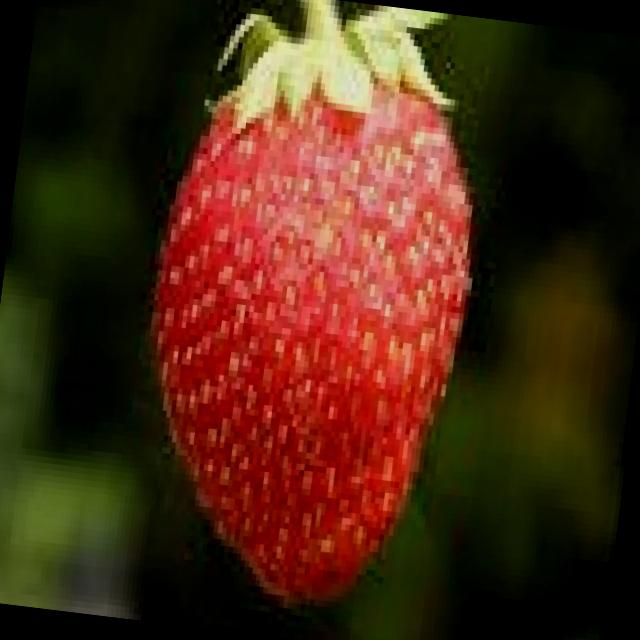tofu: (81, 0, 516, 635)
